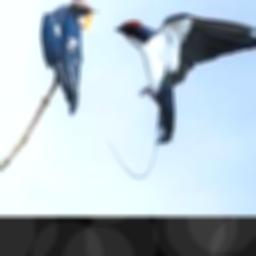Swallow: (114, 12, 256, 144), (41, 0, 98, 114)
